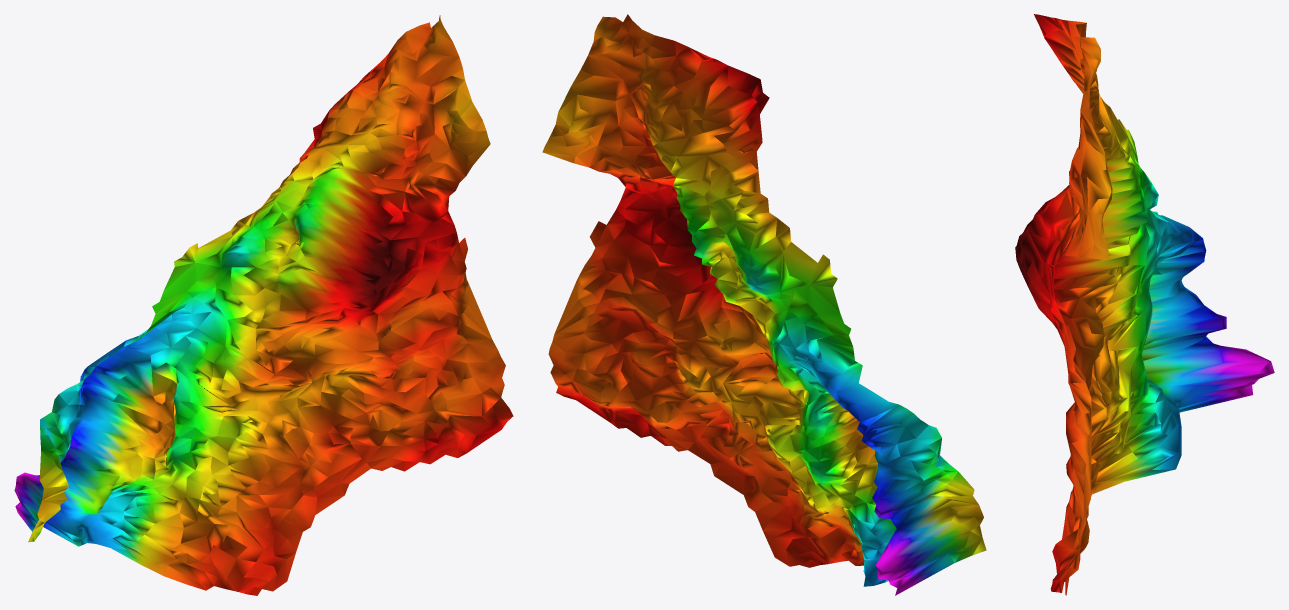
File: Topo_Rifte_cubo.glb
3 renders of one model, left to right at view 1: azimuth 30°, elevation 25°; view 2: azimuth 150°, elevation 25°; view 3: azimuth 270°, elevation 25°, orthographic. The views are drawn at different scales.
Parts seen in each view (by area): view 1: Surface.001; view 2: Surface.001; view 3: Surface.001.
Boxes of the visible parts, left/top/right/bottom form: Surface.001: left=14, top=15, right=513, bottom=595; Surface.001: left=542, top=14, right=986, bottom=595; Surface.001: left=1015, top=14, right=1274, bottom=595.
Size of the model in its own units: 144401 by 157328 by 55230.
Materials: 1 (1 with a texture image).
